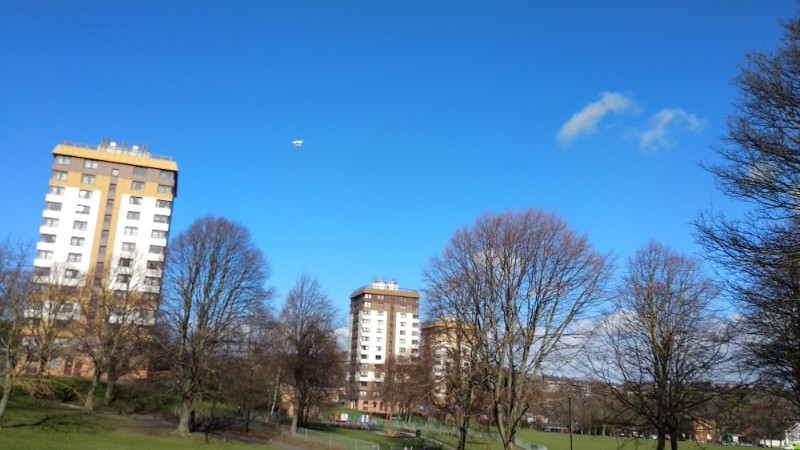drone: (291, 138, 305, 148)
